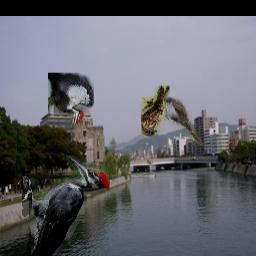Cuckoo: (163, 97, 205, 146)
Sparrow: (140, 87, 169, 137)
Woodpecker: (22, 155, 110, 256), (48, 73, 94, 130)
